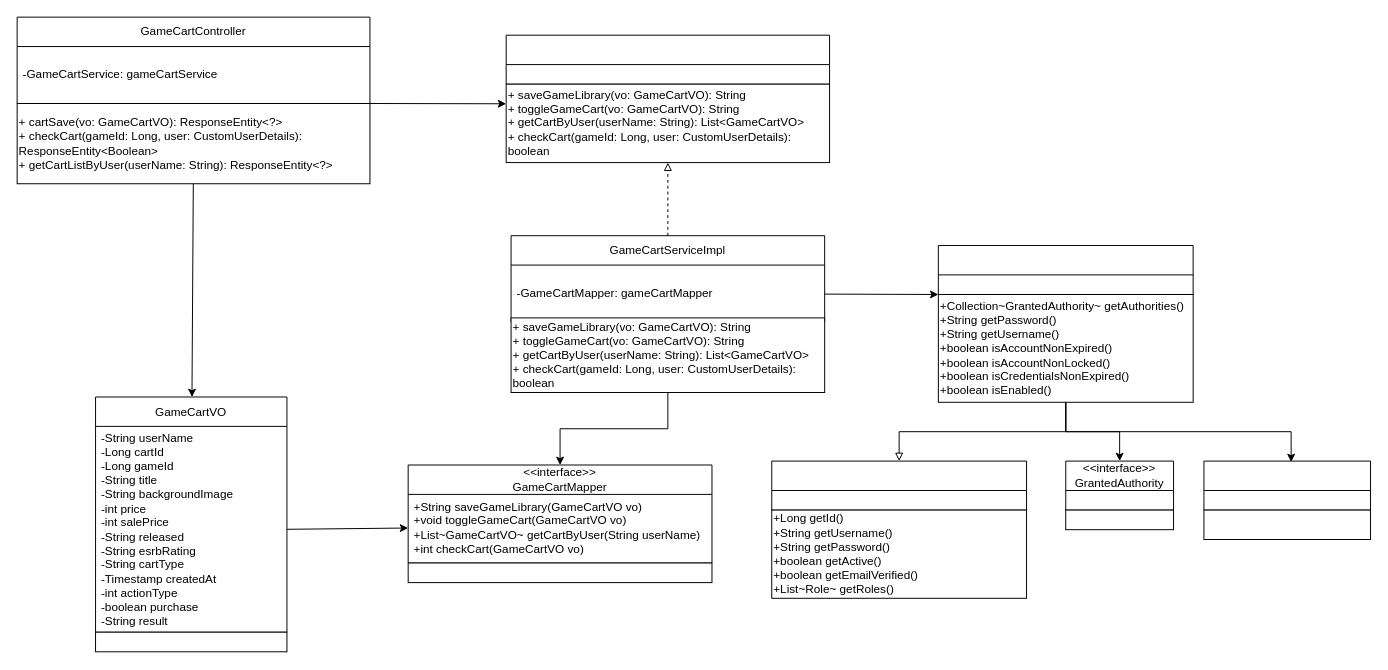
This 1388x670 diagram has some shape labels left out. The shapes that lost their labels are listed below. From the top down, each one's centre as x and y in pixels, then its label:
the point at 667,59: <<interface>> GameCartService
the point at 1065,269: CustomUserDetails
the point at 899,485: User
the point at 1287,485: SimpleGrantedAuthority
the point at 1287,524: +String getAuthority()
